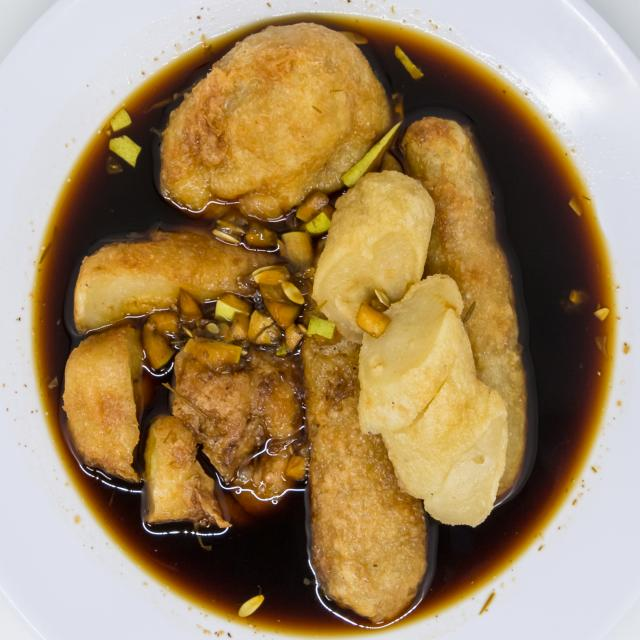Pempek-Palembang: (52, 8, 534, 636)
